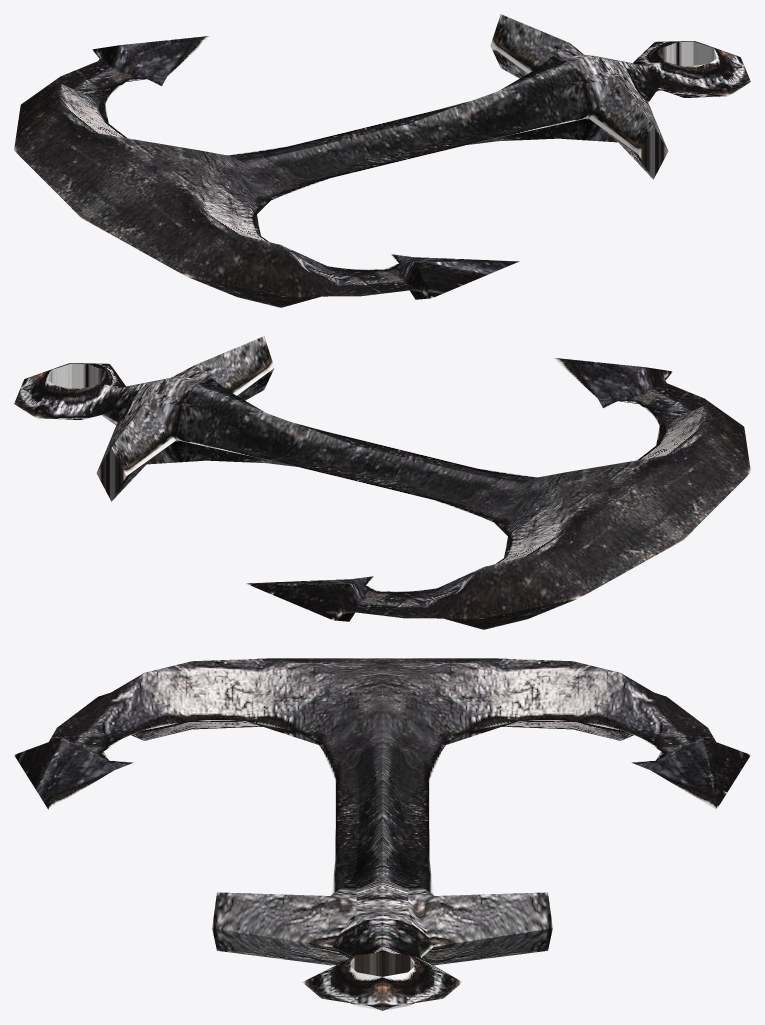
Rendered from encre marine.fbx.
3 views of the same model, one above another, from view 1: azimuth 30°, elevation 25°; view 2: azimuth 150°, elevation 25°; view 3: azimuth 270°, elevation 25° (orthographic). The views are drawn at different scales.
Parts seen in each view (by area): view 1: Encre marine; view 2: Encre marine; view 3: Encre marine.
Boxes of the visible parts, box(x1,y1,x2,y2) form: Encre marine: box(14, 14, 750, 307); Encre marine: box(14, 336, 750, 629); Encre marine: box(14, 658, 750, 1010).
Size of the model in its own units: 111 by 12.4 by 99.15.
